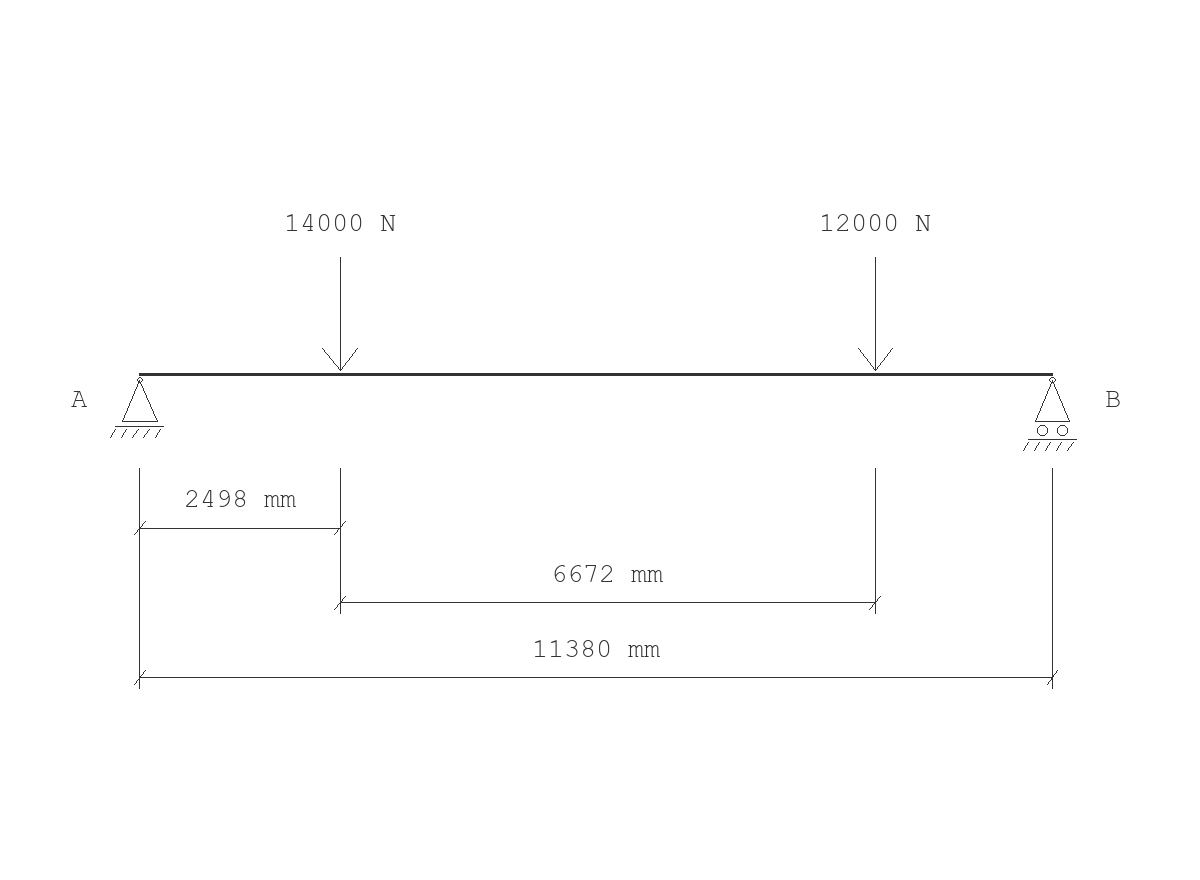pin_support: (110, 377, 164, 438)
point_load: (322, 257, 358, 371), (858, 257, 893, 371)
roller_support: (1023, 377, 1077, 451)
